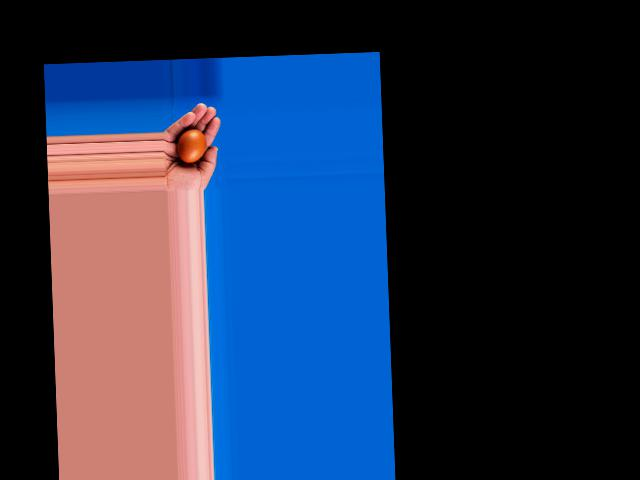egg: (177, 127, 206, 163)
